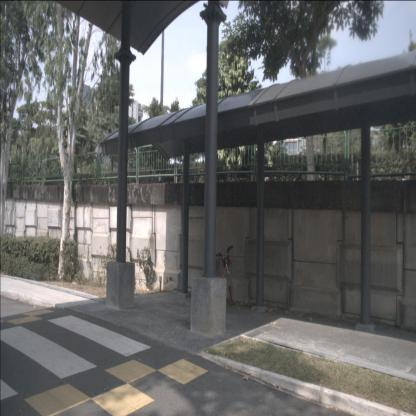vehicle-bicycle: (199, 245, 235, 305)
